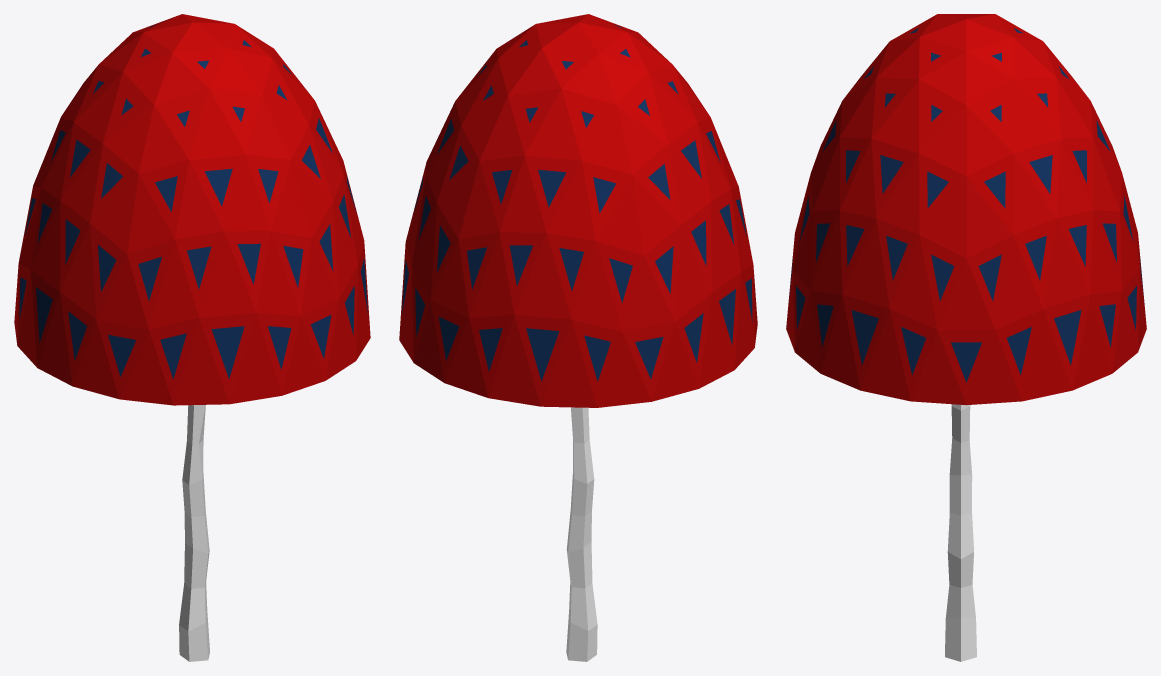
File: cogumelo9.FBX
3 renders of one model, left to right at view 1: azimuth 30°, elevation 25°; view 2: azimuth 150°, elevation 25°; view 3: azimuth 270°, elevation 25°, orthographic.
Parts seen in each view (by area): view 1: cogumelo9cabeca, cogumelo9; view 2: cogumelo9cabeca, cogumelo9; view 3: cogumelo9cabeca, cogumelo9.
Part boxes in pixels (bbox=[...]): cogumelo9cabeca: bbox=[14, 14, 370, 405]; cogumelo9: bbox=[179, 405, 209, 661]; cogumelo9cabeca: bbox=[399, 14, 757, 407]; cogumelo9: bbox=[566, 407, 597, 661]; cogumelo9cabeca: bbox=[786, 14, 1146, 405]; cogumelo9: bbox=[945, 404, 976, 661].
Bounding box in the file's own units: 65.37 × 127 × 65.37.
